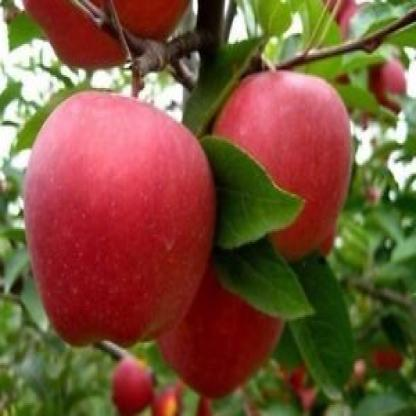apple: (18, 81, 214, 368), (144, 196, 298, 396), (212, 71, 354, 272)
